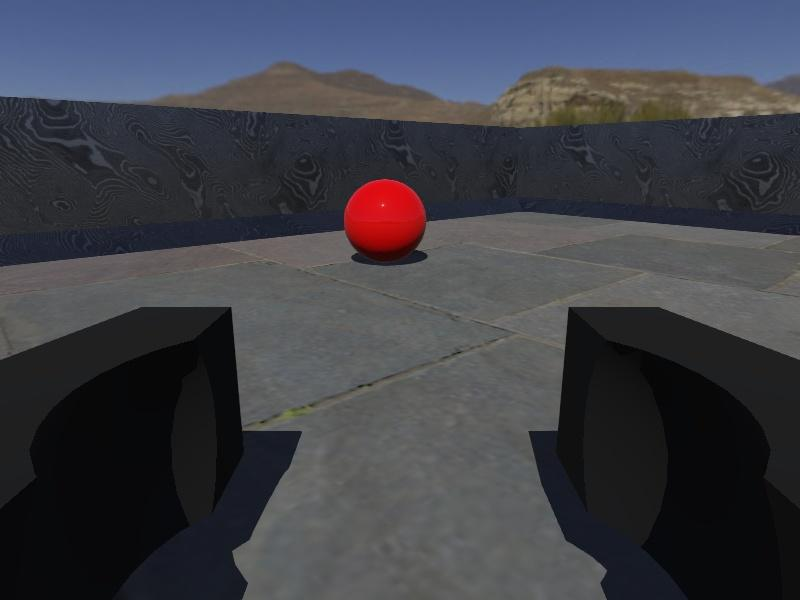red ball: (342, 178, 428, 263)
